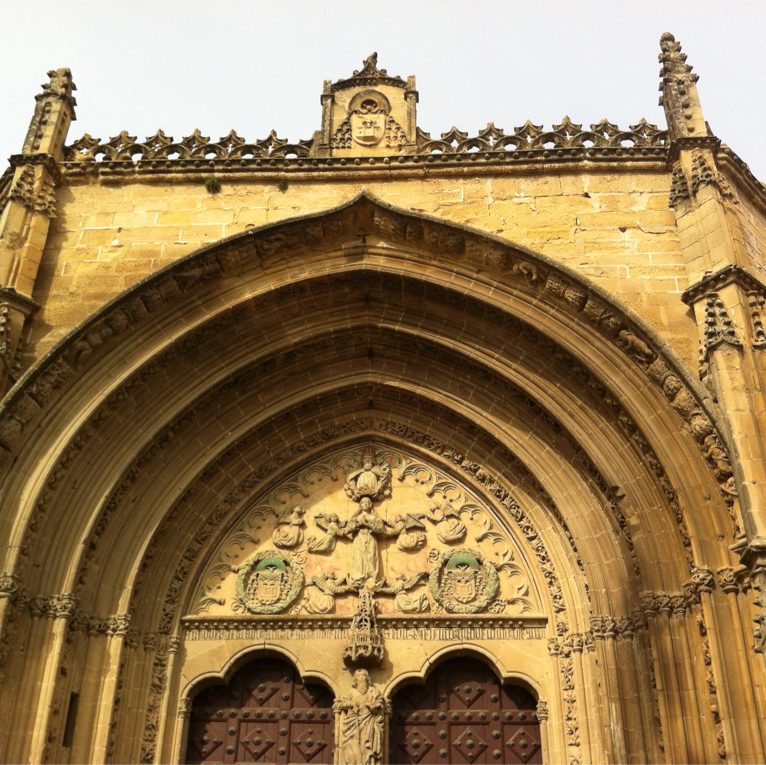arco-apuntado: (32, 263, 672, 625)
arco-conopial: (213, 182, 510, 244)
arco-trilobulado: (379, 639, 547, 716), (172, 641, 345, 712)
pinaculo-gotico: (650, 21, 703, 114)
